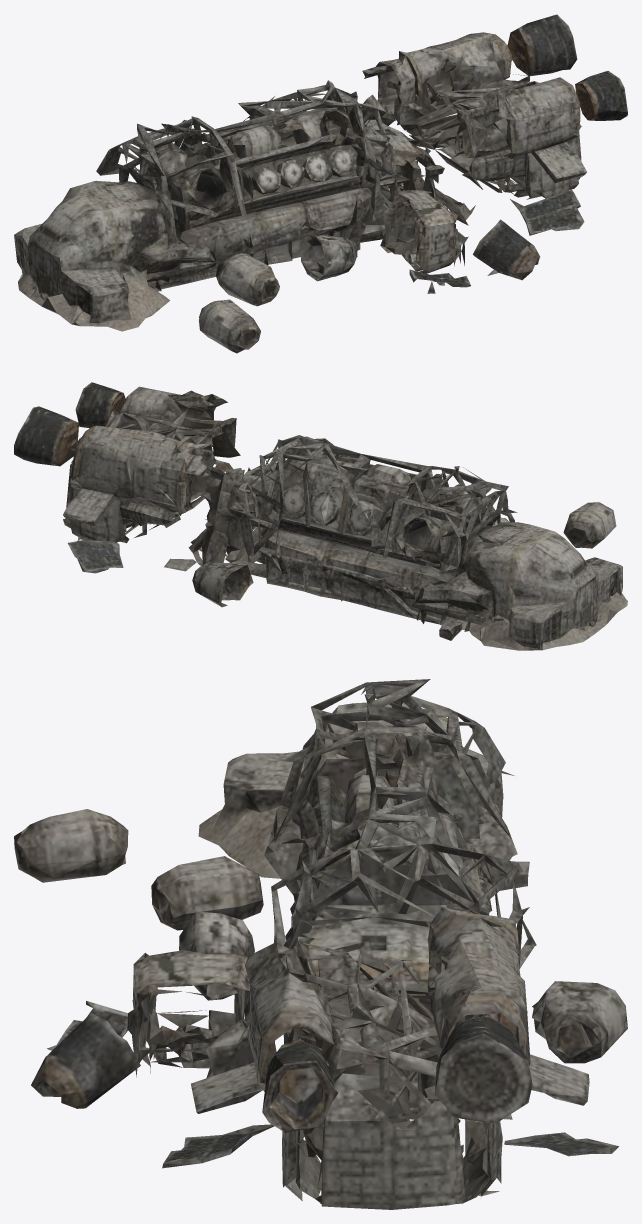
The model's file is decor.halcyon_wreck.glb.
3 views of the same model, one above another, from view 1: azimuth 30°, elevation 25°; view 2: azimuth 150°, elevation 25°; view 3: azimuth 270°, elevation 25° (orthographic). The views are drawn at different scales.
Parts seen in each view (by area): view 1: body; view 2: body; view 3: body.
Boxes of the visible parts, x1,y1,x2,y2 form: body: [14, 14, 627, 353]; body: [14, 382, 627, 650]; body: [14, 679, 627, 1209].
Size of the model in its own units: 13.93 by 3.25 by 8.21.
1 material, 1 textured.
